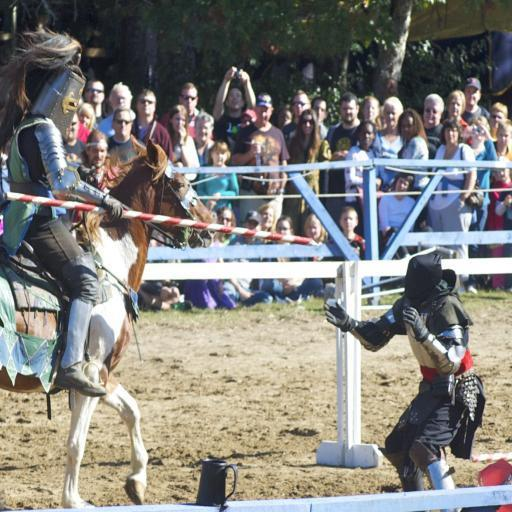horse: (0, 134, 214, 512)
